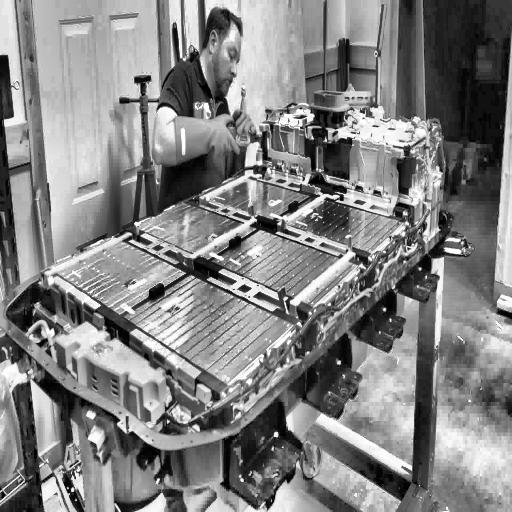battery_module: (123, 272, 296, 387), (210, 229, 359, 307), (48, 235, 186, 314), (276, 195, 403, 254), (135, 200, 257, 260), (200, 177, 311, 218)
busbar: (40, 216, 141, 293), (277, 231, 358, 327), (176, 198, 259, 271), (257, 122, 324, 196), (275, 193, 341, 233), (384, 144, 407, 219)
connector: (307, 88, 351, 128)
high_volt_cable: (234, 121, 436, 415)
low_volt_cable: (152, 125, 451, 431)
